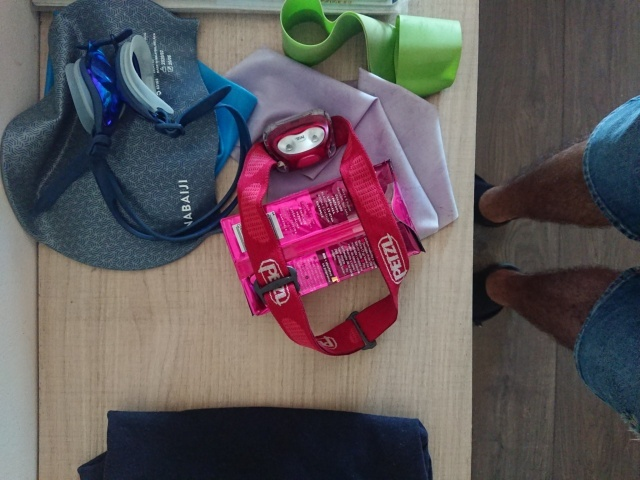Barcaffe Classic Original 225g: (218, 156, 428, 318)
